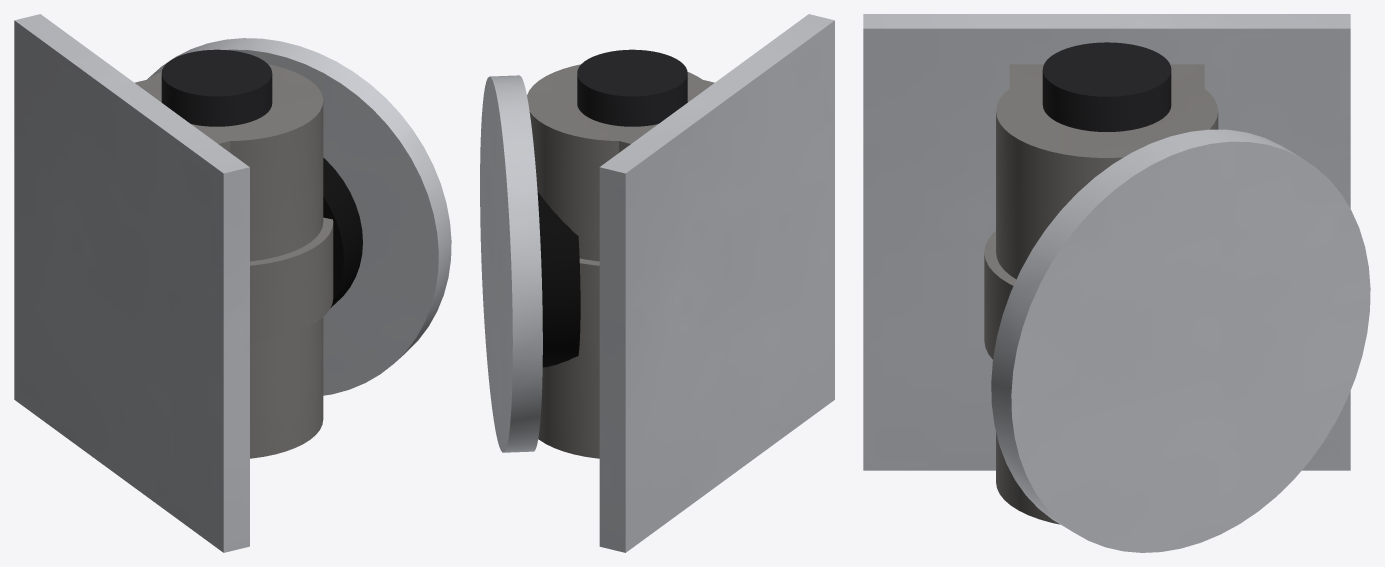
File: rover18_steering_module_s_steer_left.glb
3 views of the same model, side by side, from view 1: azimuth 30°, elevation 25°; view 2: azimuth 150°, elevation 25°; view 3: azimuth 270°, elevation 25° (orthographic). The views are drawn at different scales.
Visible parts, largest first — view 1: mount_flange, half_b_flange, slew_ring, steer_motor, half_b_neck, yoke; view 2: mount_flange, half_b_flange, slew_ring, steer_motor, half_b_neck, yoke; view 3: half_b_flange, mount_flange, slew_ring, steer_motor, yoke.
Boxes of the visible parts, x1=… form: mount_flange: x1=14, y1=14, x2=249, y2=552; half_b_flange: x1=148, y1=38, x2=451, y2=395; slew_ring: x1=140, y1=64, x2=333, y2=458; steer_motor: x1=161, y1=49, x2=272, y2=126; half_b_neck: x1=323, y1=158, x2=362, y2=307; yoke: x1=135, y1=77, x2=269, y2=152; mount_flange: x1=599, y1=14, x2=834, y2=552; half_b_flange: x1=480, y1=75, x2=542, y2=452; slew_ring: x1=527, y1=64, x2=709, y2=458; steer_motor: x1=577, y1=49, x2=687, y2=126; half_b_neck: x1=537, y1=191, x2=580, y2=367; yoke: x1=580, y1=78, x2=714, y2=152; half_b_flange: x1=991, y1=129, x2=1370, y2=552; mount_flange: x1=863, y1=14, x2=1350, y2=470; slew_ring: x1=984, y1=73, x2=1218, y2=524; steer_motor: x1=1042, y1=42, x2=1171, y2=131; yoke: x1=1009, y1=64, x2=1204, y2=110.
Bounding box in the file's own units: 0.1608 × 0.2 × 0.2081.
Materials: 4 (2 with a texture image).
